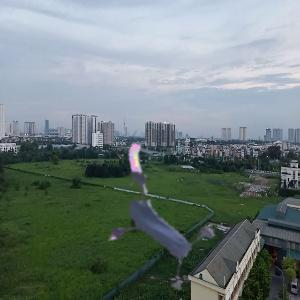drone: (98, 154, 232, 288)
